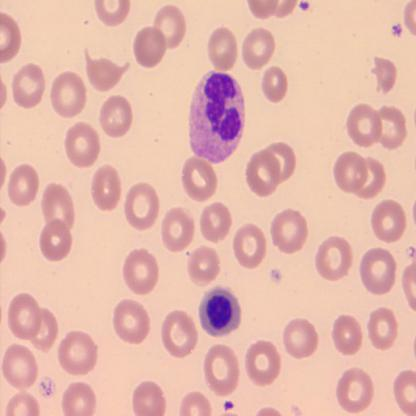NRC: (197, 286, 243, 339)
